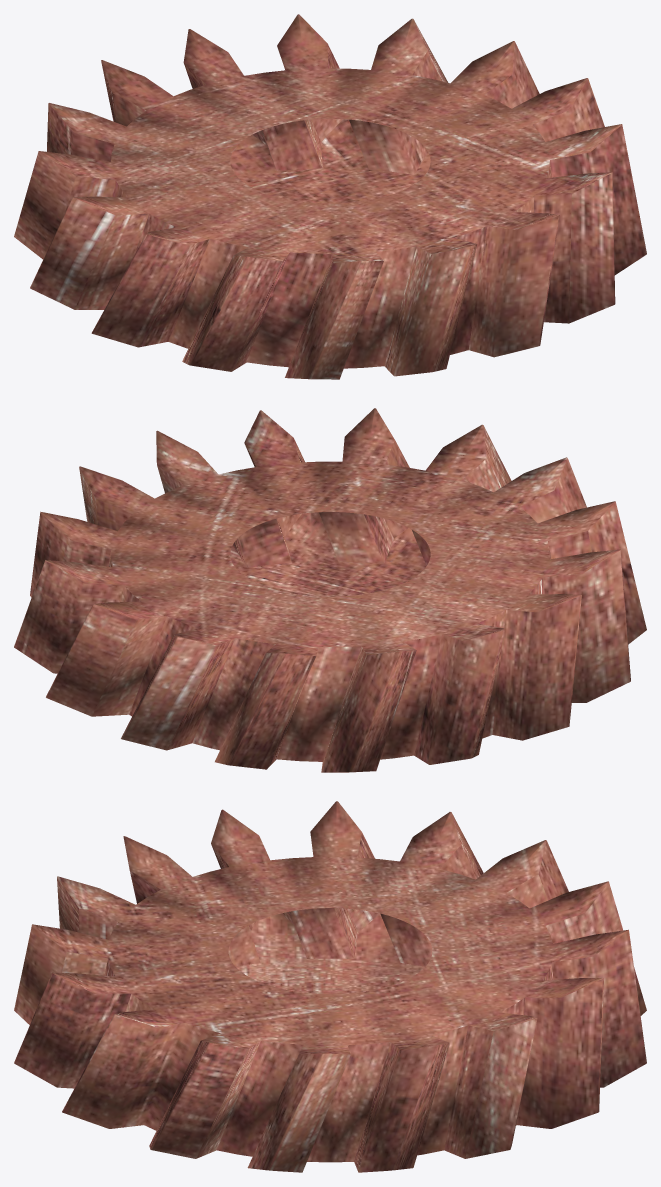
The model's file is gear2.obj.
3 views of the same model, one above another, from view 1: azimuth 30°, elevation 25°; view 2: azimuth 150°, elevation 25°; view 3: azimuth 270°, elevation 25° (orthographic).
Parts seen in each view (by area): view 1: Gear; view 2: Gear; view 3: Gear.
Boxes of the visible parts, x1,y1,x2,y2 form: Gear: [14, 14, 646, 379]; Gear: [14, 408, 646, 772]; Gear: [14, 801, 646, 1172].
Bounding box in the file's own units: 2.41 × 0.56 × 2.41.
Materials: 1 (1 with a texture image).
